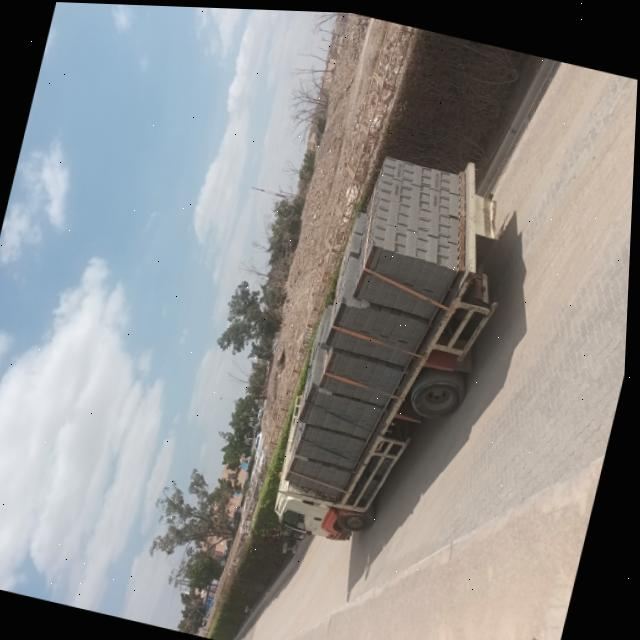bricks: (285, 158, 459, 502)
